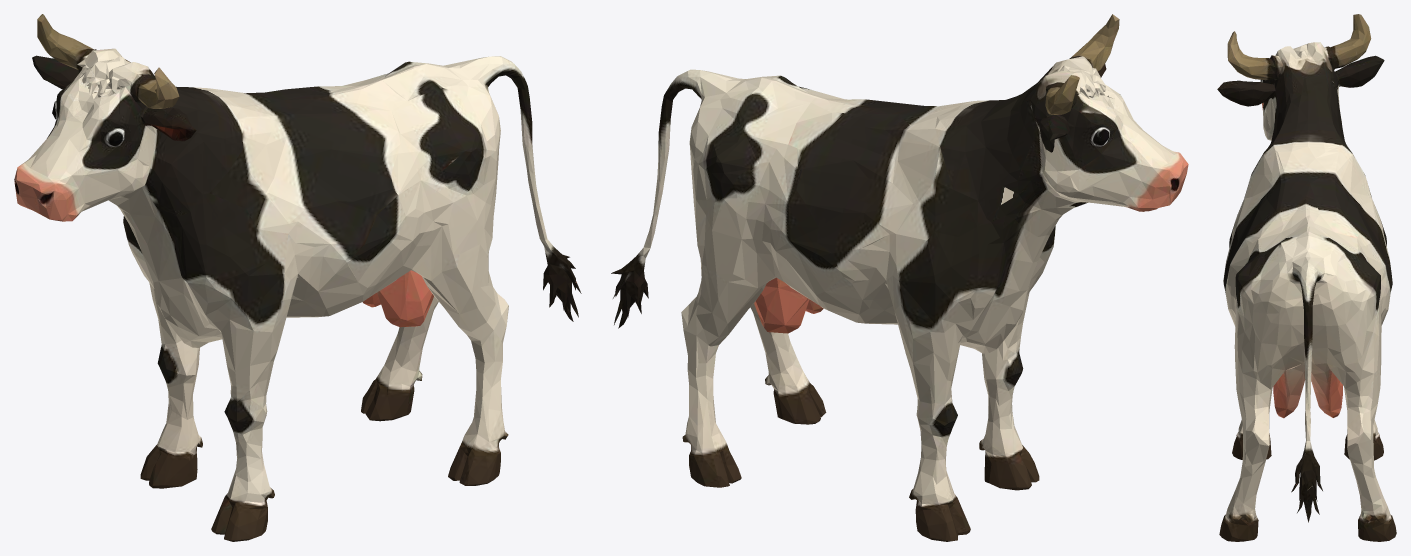
Rendered from cow.glb.
3 renders of one model, left to right at view 1: azimuth 30°, elevation 25°; view 2: azimuth 150°, elevation 25°; view 3: azimuth 270°, elevation 25°, orthographic. The views are drawn at different scales.
Visible parts, largest first — view 1: tripo_node_6bf705fd-7712-4a8c-8f60-17551b124503; view 2: tripo_node_6bf705fd-7712-4a8c-8f60-17551b124503; view 3: tripo_node_6bf705fd-7712-4a8c-8f60-17551b124503.
Part boxes in pixels (x1=…): tripo_node_6bf705fd-7712-4a8c-8f60-17551b124503: x1=14, y1=14, x2=581, y2=541; tripo_node_6bf705fd-7712-4a8c-8f60-17551b124503: x1=611, y1=14, x2=1188, y2=541; tripo_node_6bf705fd-7712-4a8c-8f60-17551b124503: x1=1217, y1=14, x2=1396, y2=541.
Size of the model in its own units: 0.9998 by 0.8351 by 0.3475.
Materials: 1 (1 with a texture image).
